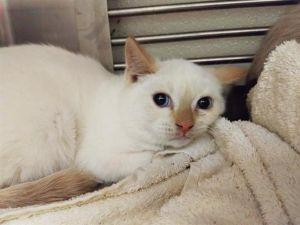siamese: (113, 29, 245, 168)
